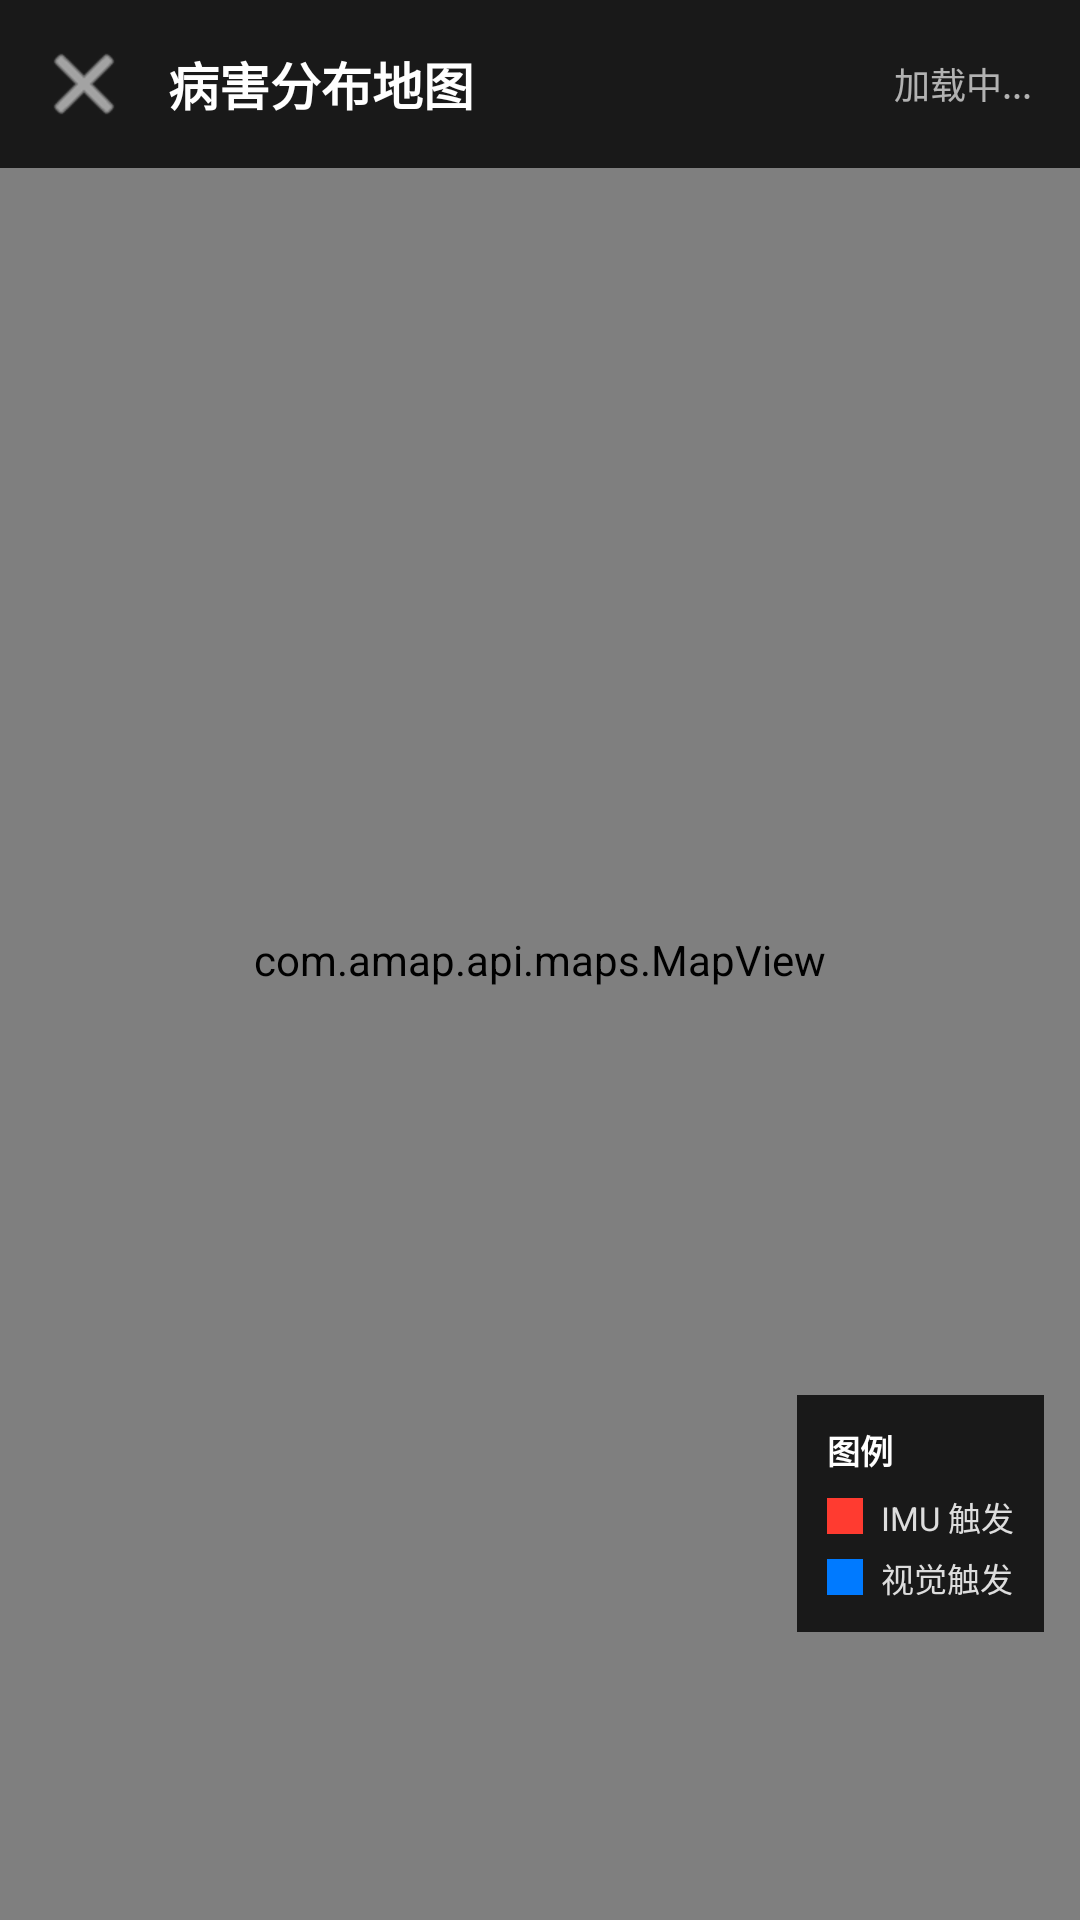

Named icons in this screenshot (1080 × 1920) and their centers, (x,y):
返回: (84,84)
